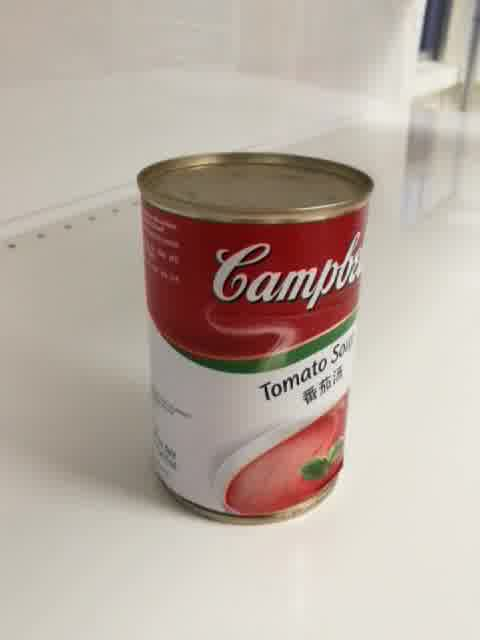tomatosoup: (135, 149, 377, 526)
